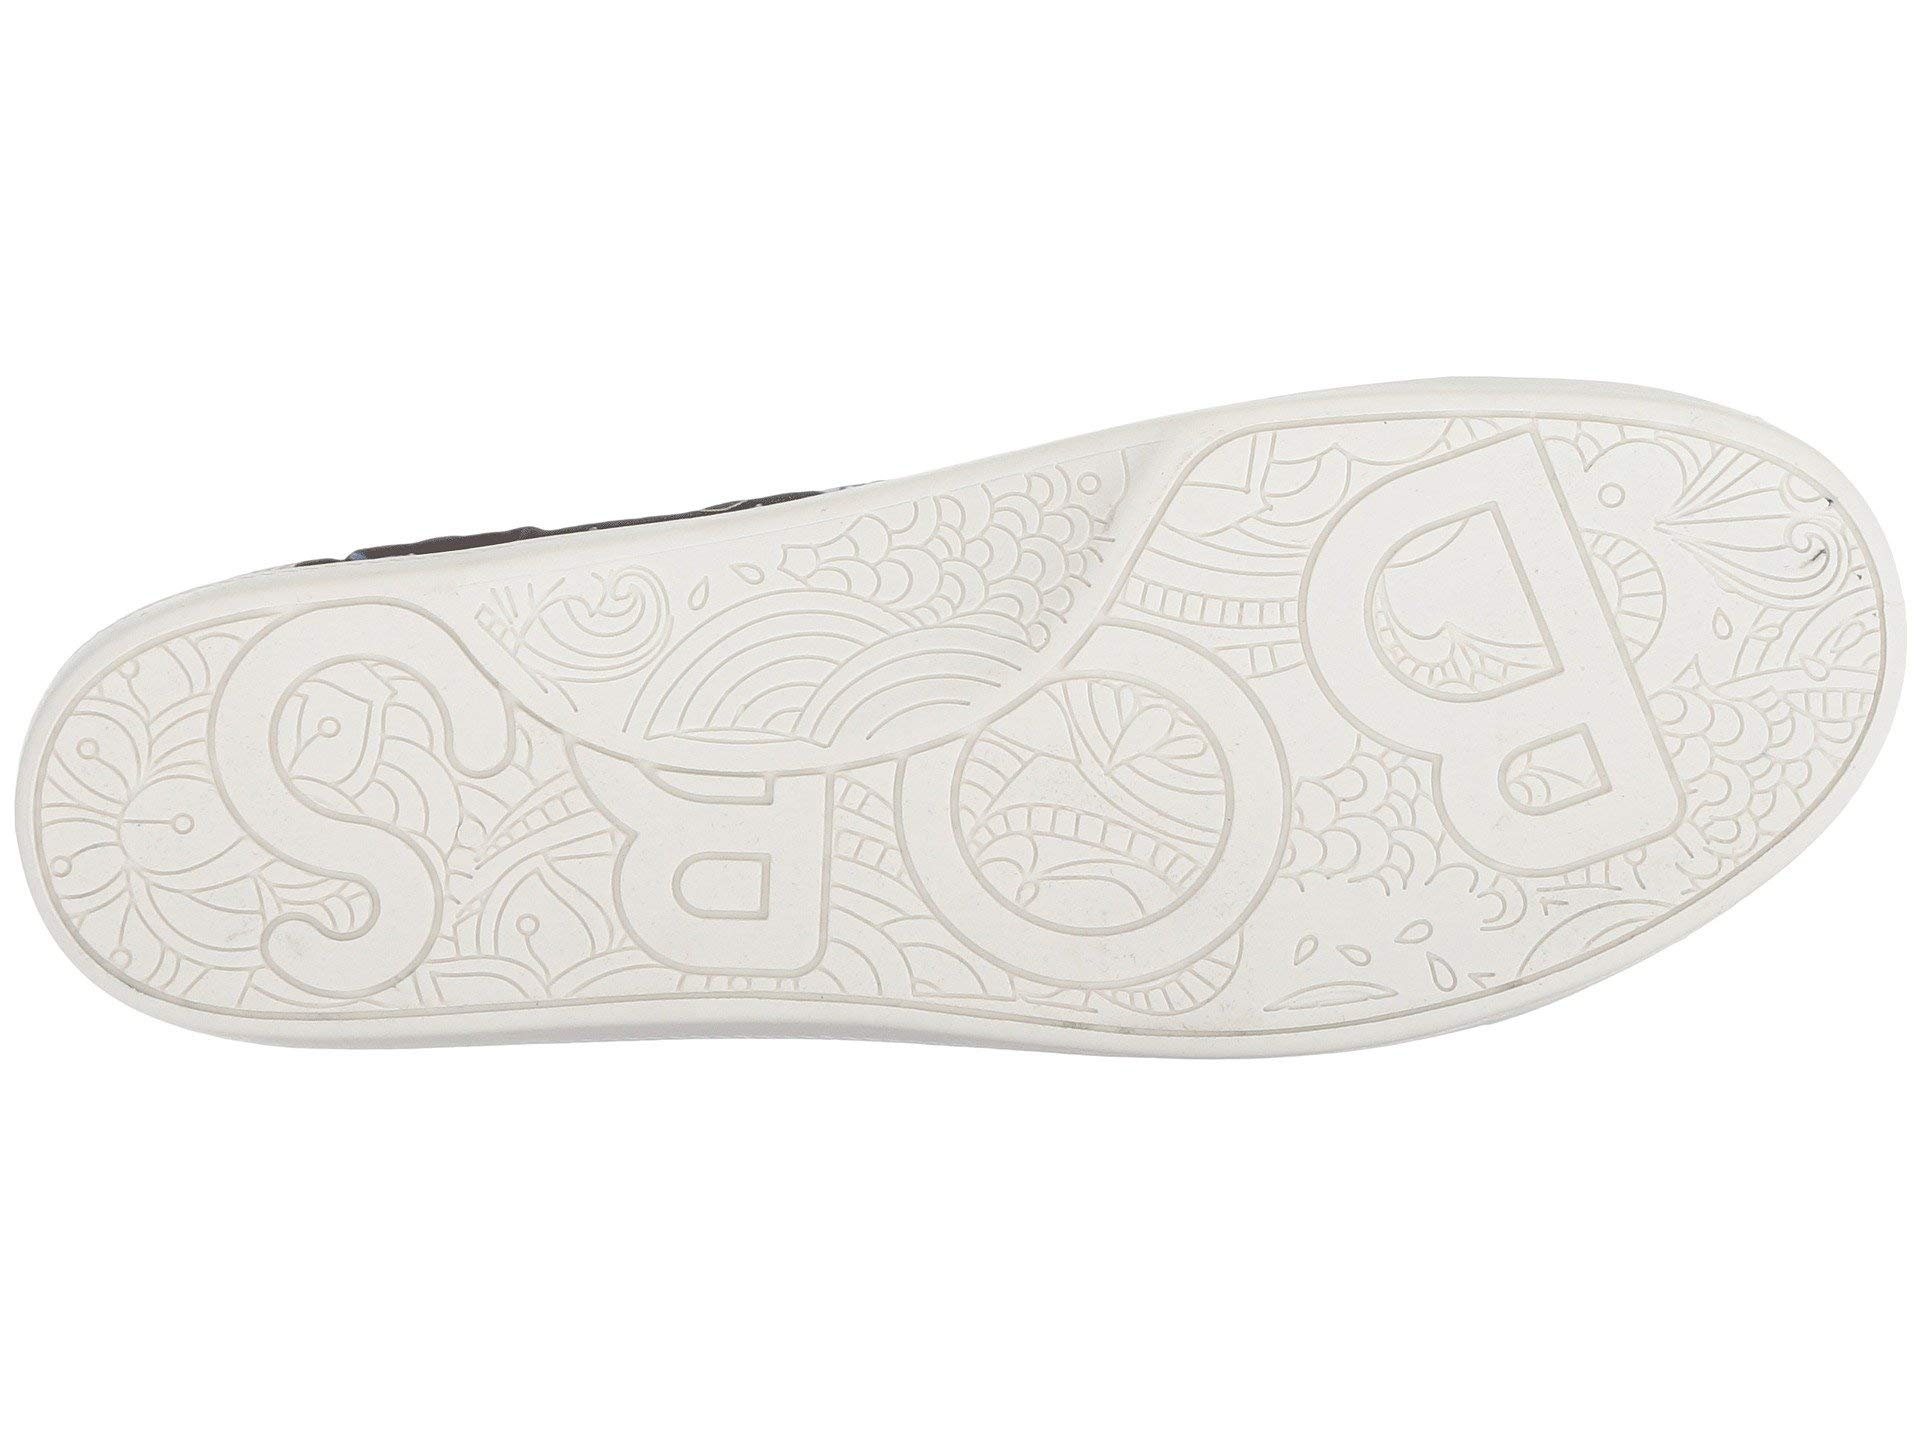circle: (872, 464, 1711, 1065), (153, 570, 866, 1045)
line: (872, 464, 1711, 1065), (153, 570, 866, 1045)
quad: (872, 464, 1711, 1065), (153, 570, 866, 1045)
text: (872, 464, 1711, 1065), (153, 570, 866, 1045)
